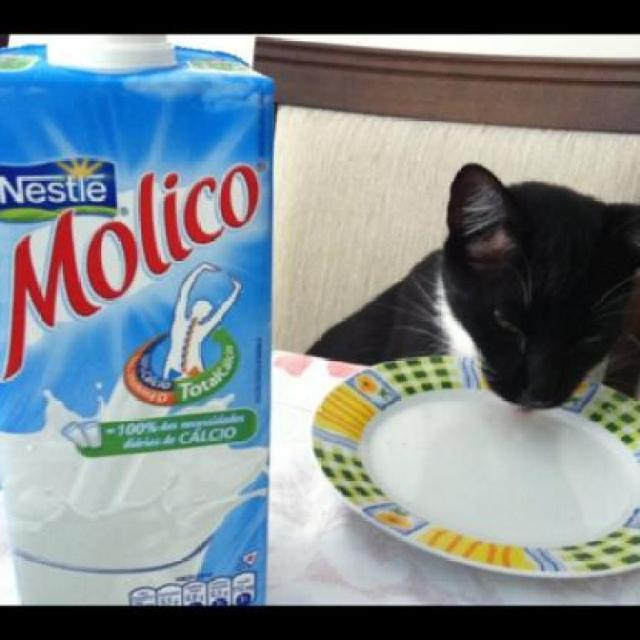Milk: (0, 369, 274, 603), (370, 402, 628, 548)
